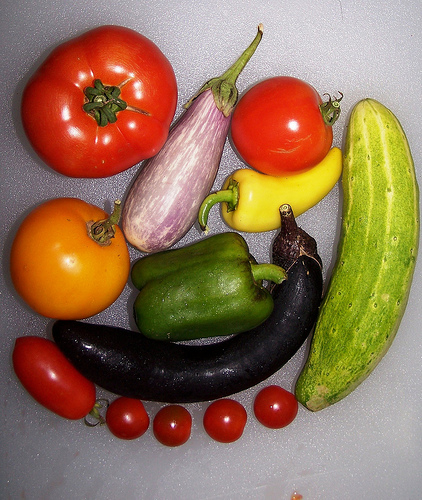cucumber: (289, 93, 420, 417)
